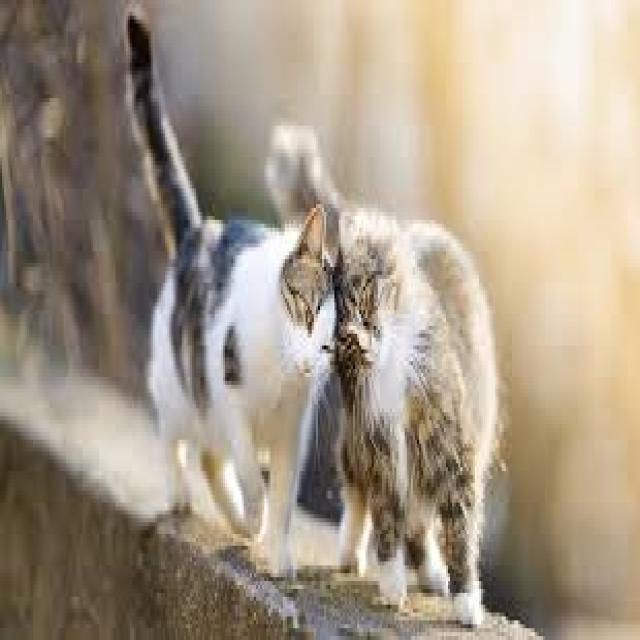cat: (121, 9, 338, 582), (336, 162, 501, 632)
